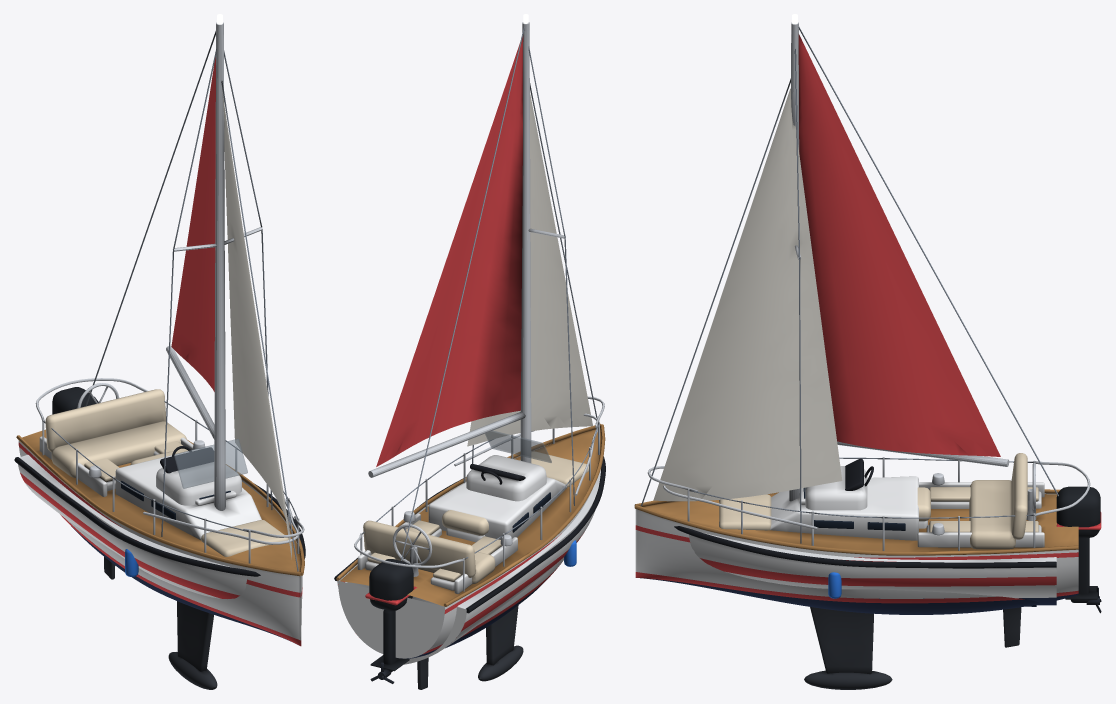
Rendered from boats.glb.
3 views of the same model, side by side, from view 1: azimuth 30°, elevation 25°; view 2: azimuth 150°, elevation 25°; view 3: azimuth 270°, elevation 25° (orthographic). The views are drawn at different scales.
Parts seen in each view (by area): view 1: sailboat_gelcoat, motorboat_cushion, sailboat_sail_white, sailboat_steel, sailboat_boat_sail, sailboat_teak, motorboat_gelcoat, sailboat_rig_wire, sailboat_lead, motorboat_rubber, motorboat_windshield, sailboat_boat_stripe (+6 smaller); view 2: sailboat_boat_sail, sailboat_sail_white, sailboat_gelcoat, sailboat_steel, sailboat_teak, motorboat_cushion, motorboat_gelcoat, sailboat_rig_wire, motorboat_engine, sailboat_lead, motorboat_rubber, motorboat_windshield (+6 smaller); view 3: sailboat_sail_white, sailboat_boat_sail, sailboat_gelcoat, motorboat_gelcoat, sailboat_teak, motorboat_cushion, sailboat_lead, sailboat_rig_wire, sailboat_steel, motorboat_rubber, sailboat_boat_bottom, sailboat_boat_stripe (+4 smaller).
Part boxes in pixels (x1,y1,x2,y2): sailboat_gelcoat: (18,436,302,640); motorboat_cushion: (45,389,288,556); sailboat_sail_white: (222,92,291,559); sailboat_steel: (35,22,304,563); sailboat_boat_sail: (171,57,215,391); sailboat_teak: (16,429,304,576); motorboat_gelcoat: (18,457,246,598); sailboat_rig_wire: (43,31,298,571); sailboat_lead: (104,557,217,689); motorboat_rubber: (14,446,305,576); motorboat_windshield: (174,439,247,488); sailboat_boat_stripe: (18,442,302,646); sailboat_boat_sail: (376,35,523,466); sailboat_sail_white: (467,93,592,446); sailboat_gelcoat: (338,444,594,658); sailboat_steel: (354,22,604,591); sailboat_teak: (336,423,605,606); motorboat_cushion: (363,451,588,583); motorboat_gelcoat: (337,455,595,664); sailboat_rig_wire: (362,27,599,560); motorboat_engine: (369,559,413,672); sailboat_lead: (417,605,523,689); motorboat_rubber: (334,456,605,613); motorboat_windshield: (485,430,551,462); sailboat_sail_white: (653,88,842,501); sailboat_boat_sail: (798,34,1000,456); sailboat_gelcoat: (635,476,1078,598); motorboat_gelcoat: (689,466,1056,598); sailboat_teak: (634,489,1078,555); motorboat_cushion: (719,453,1027,549); sailboat_lead: (804,602,1021,689); sailboat_rig_wire: (641,26,1058,543); sailboat_steel: (647,22,1090,550); motorboat_rubber: (674,458,1056,568); sailboat_boat_bottom: (636,577,1078,614); sailboat_boat_stripe: (635,525,1078,603).
Size of the model in its own units: 1.22 by 5.03 by 3.16.
